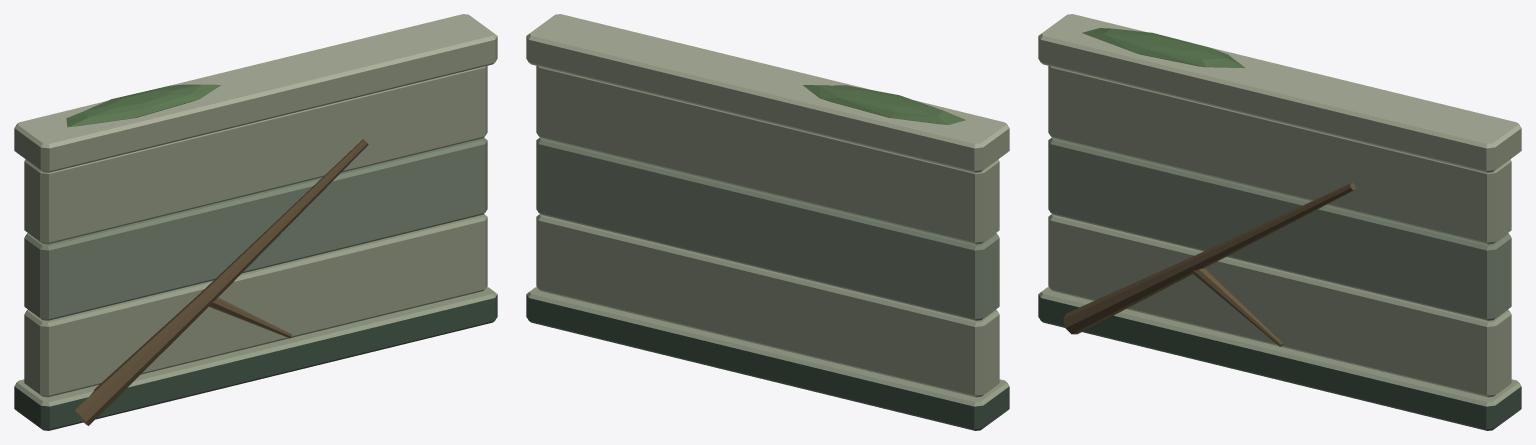
File: platform-edge.glb
3 views of the same model, side by side, from view 1: azimuth 30°, elevation 25°; view 2: azimuth 150°, elevation 25°; view 3: azimuth 330°, elevation 25° (orthographic).
Visible parts, largest first — view 1: platform-edge__body; view 2: platform-edge__body; view 3: platform-edge__body.
Part boxes in pixels (<box>): platform-edge__body: <box>14,14,497,430</box>; platform-edge__body: <box>526,14,1009,430</box>; platform-edge__body: <box>1038,14,1521,430</box>.
Bounding box in the file's own units: 2 × 1.24 × 0.295.
